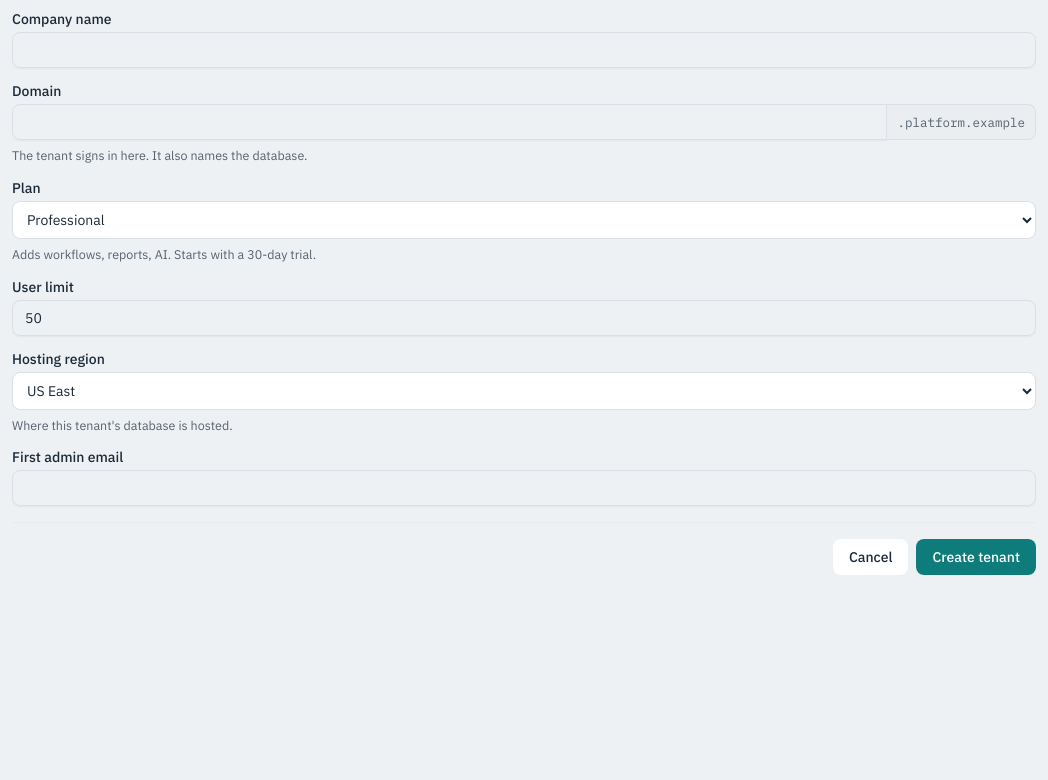
Scenario: CreateTenantForm › fields › updates the plan hint when the plan changes
expect the text "Adds workflows, reports, AI. Starts with a 30-day trial." is shown: met, box [12,246,316,262]
Select "Essentials" in the dropdown labelled "Plan" at (524, 220), box [12,201,1036,239]
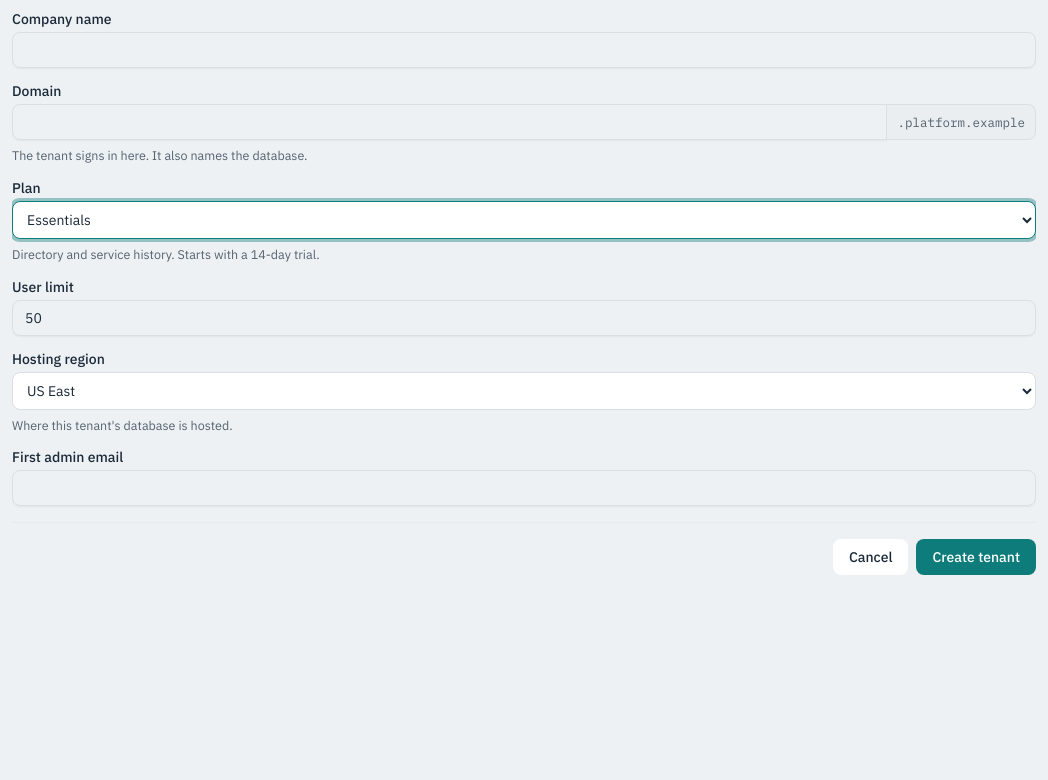
expect the text "Directory and service history. Starts with a 14-day trial." is shown: met, box [12,246,320,262]
Select "Enterprise" in the dropdown labelled "Plan" at (524, 220), box [12,201,1036,239]
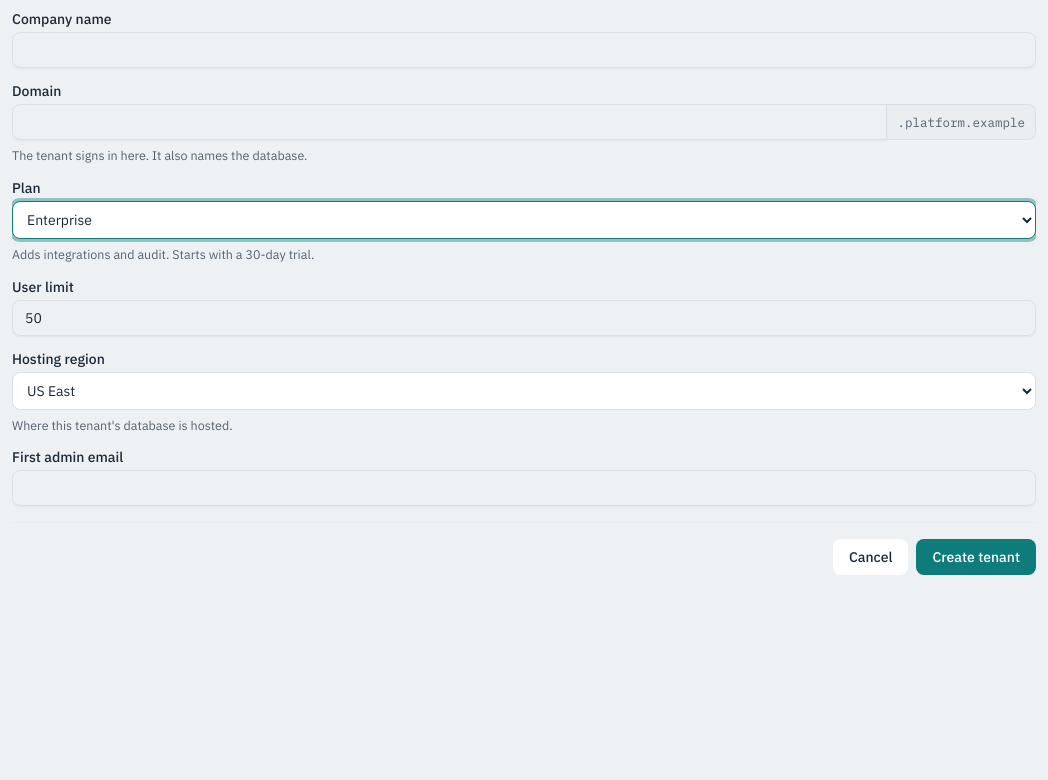
expect the text "Adds integrations and audit. Starts with a 30-day trial." is shown: met, box [12,246,314,262]
